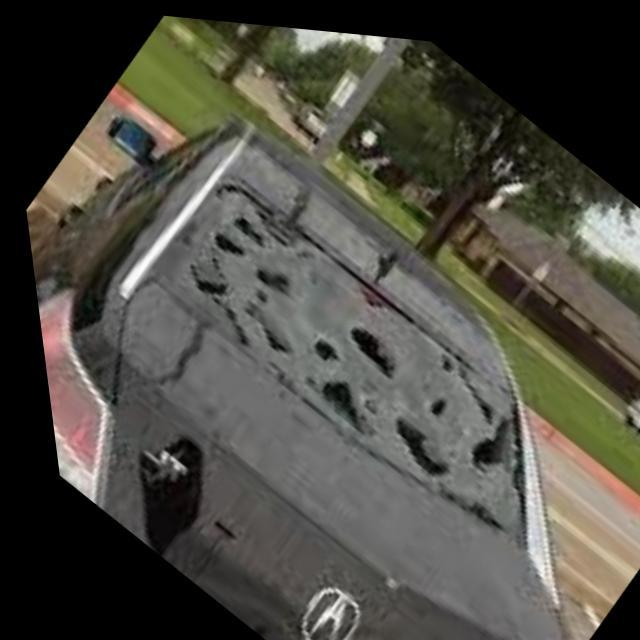glass shatter: (136, 168, 514, 525)
